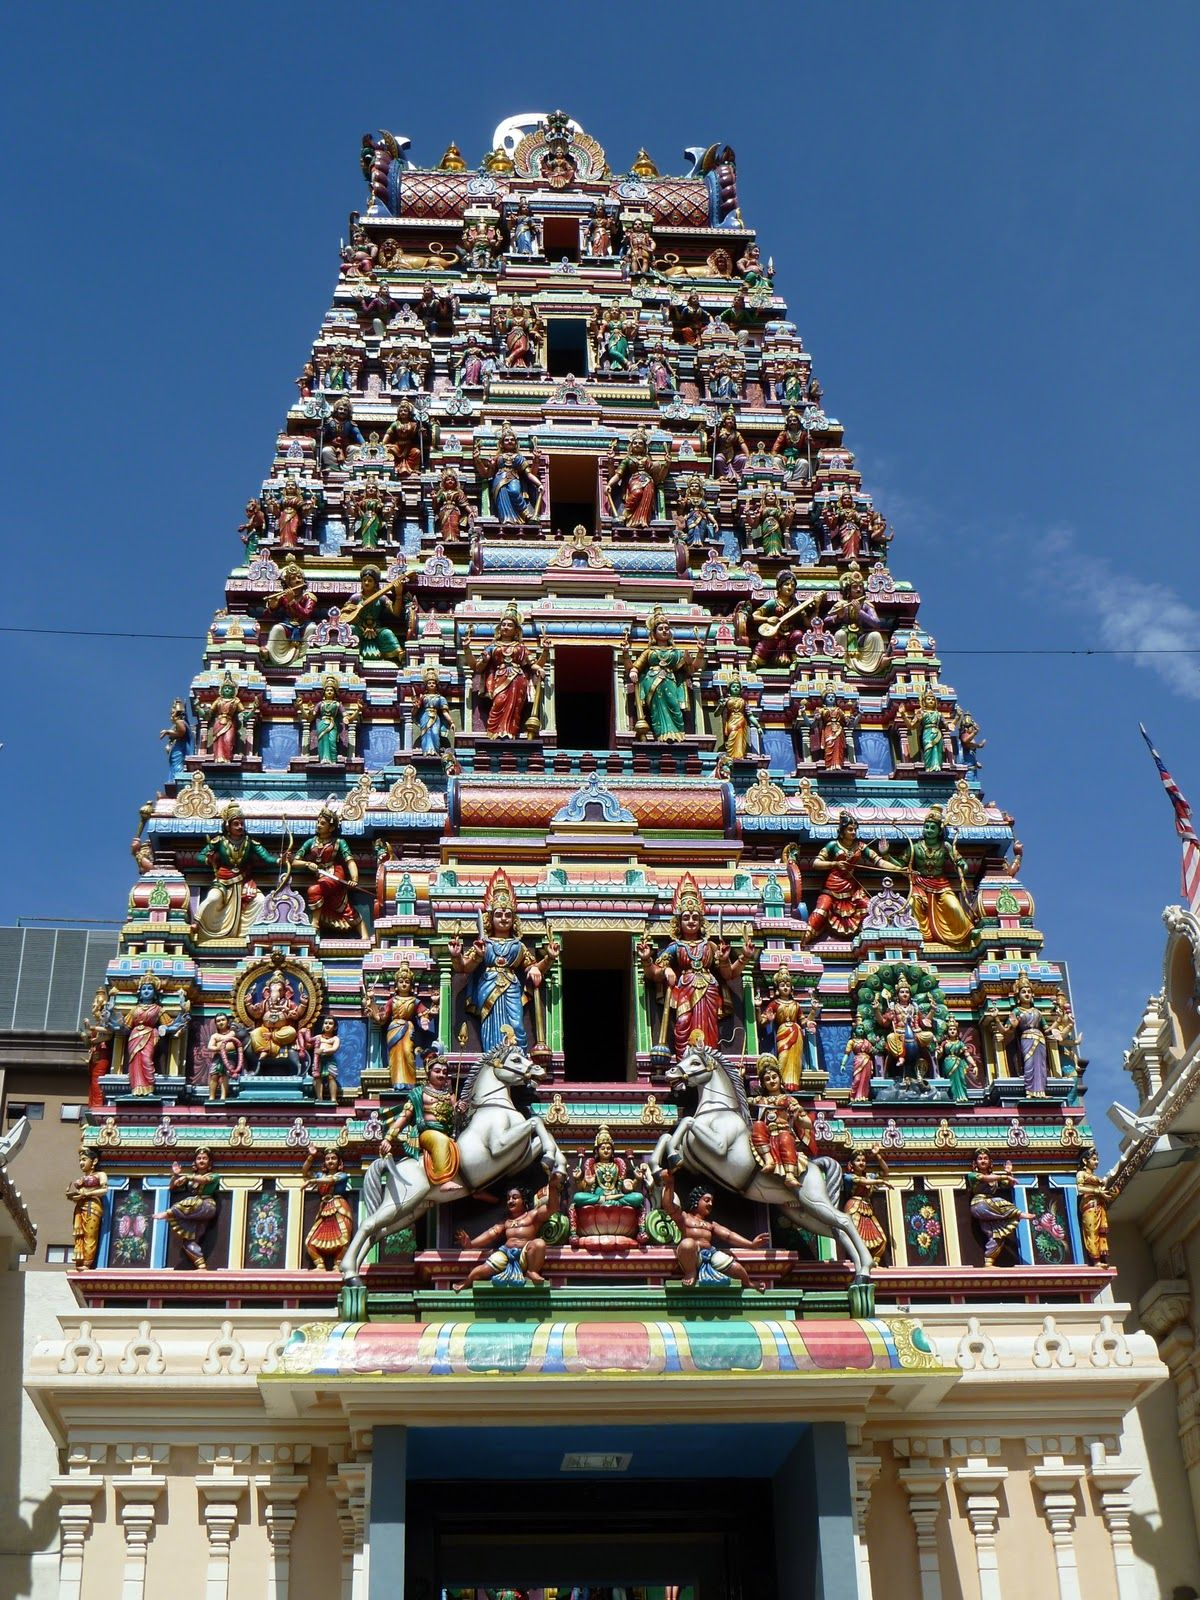Hindu Temple: (108, 93, 1092, 1443)
